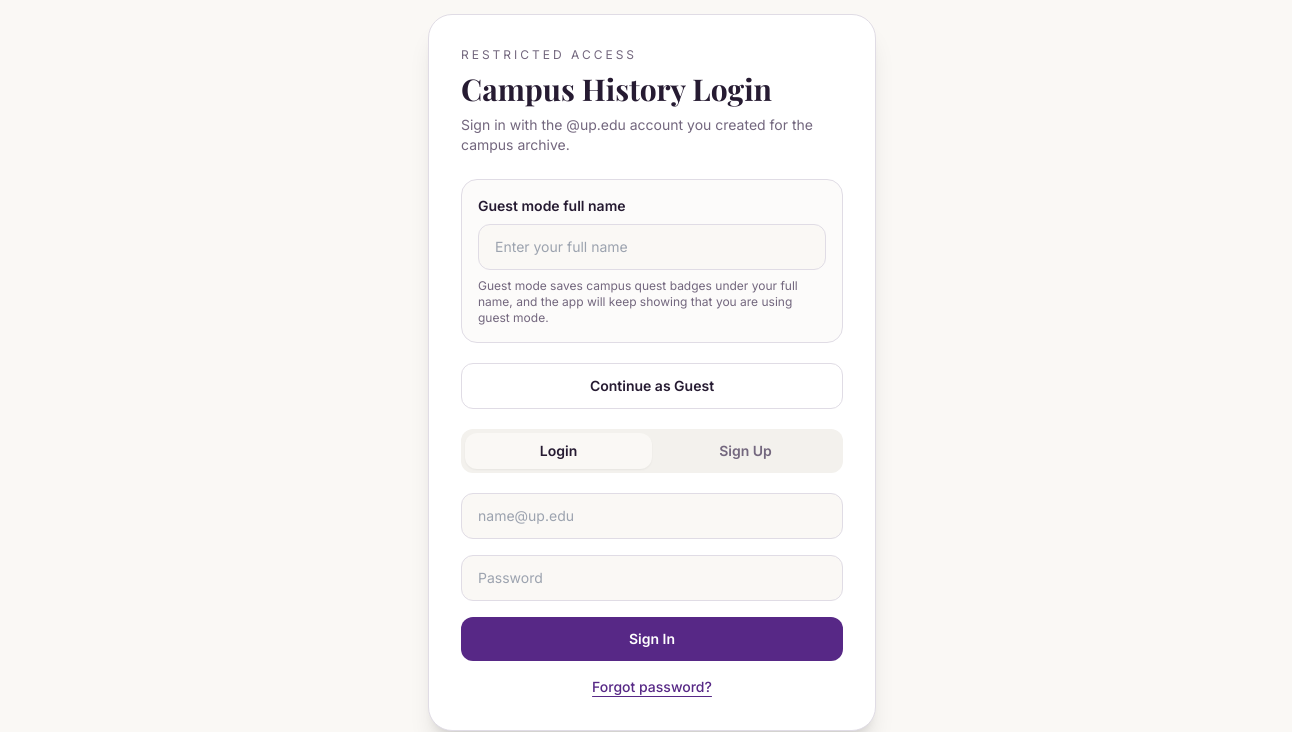
Scenario: LoginGate › renders children after a successful login
Expected: the heading "Campus History Login" is shown, x1=461 y1=68 x2=772 y2=108
Type "user@up.edu" into the field with placeholder "name@up.edu". click: (652, 516)
box: x1=461 y1=492 x2=843 y2=538
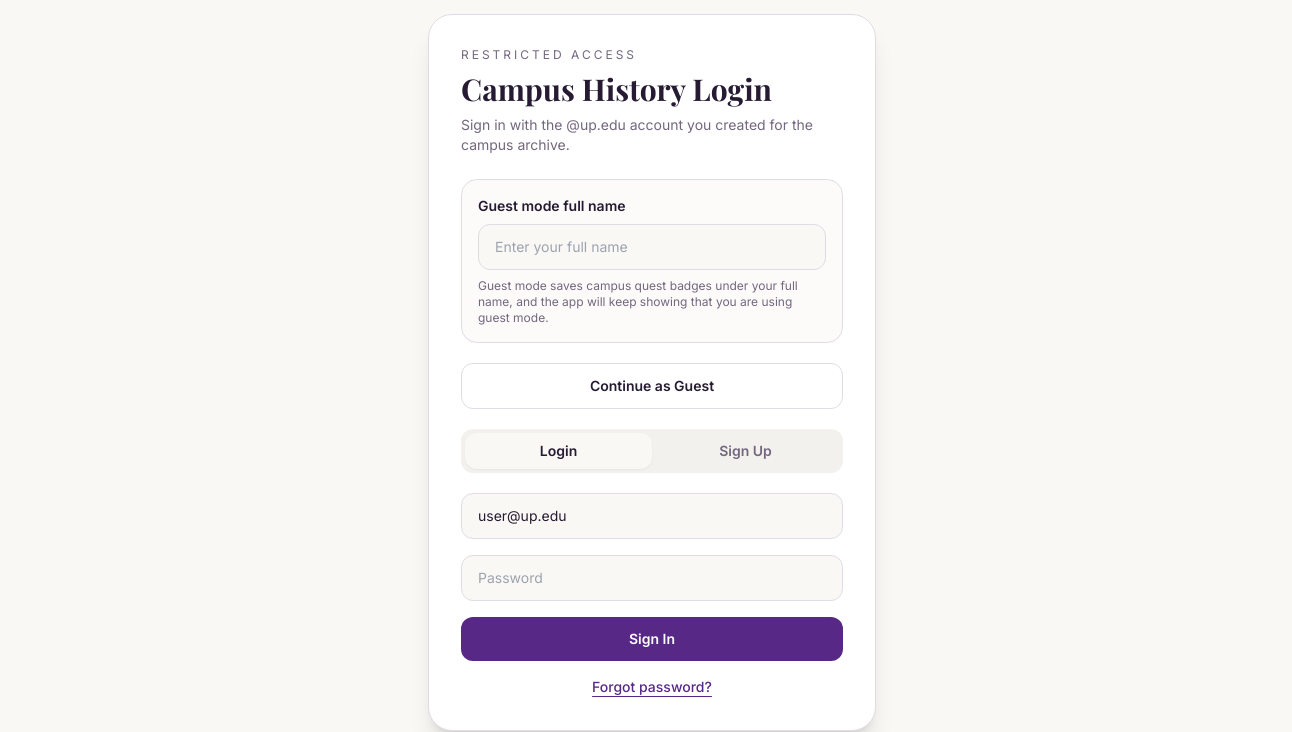
Type "campuspass" into the password field with placeholder "Password". click: (652, 578)
box: x1=461 y1=554 x2=843 y2=600
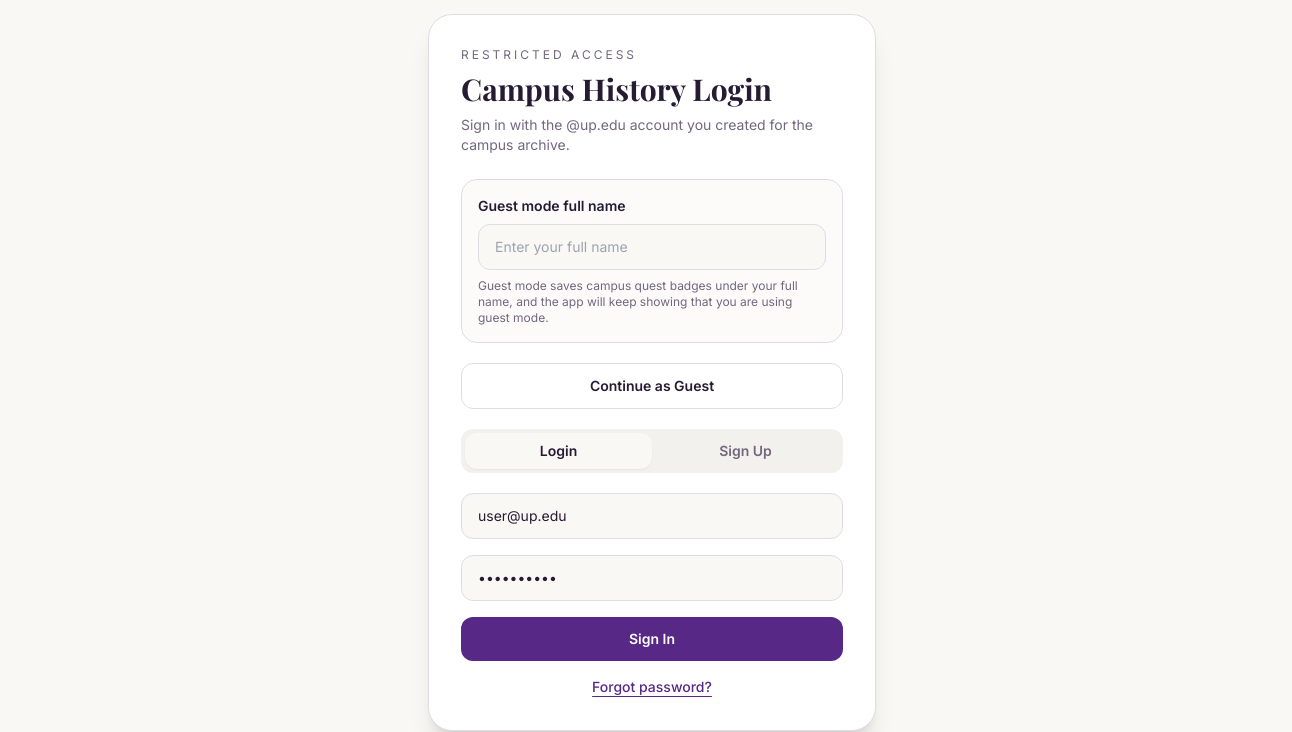
Click the button "Sign In". click: (652, 638)
box: x1=461 y1=616 x2=843 y2=660
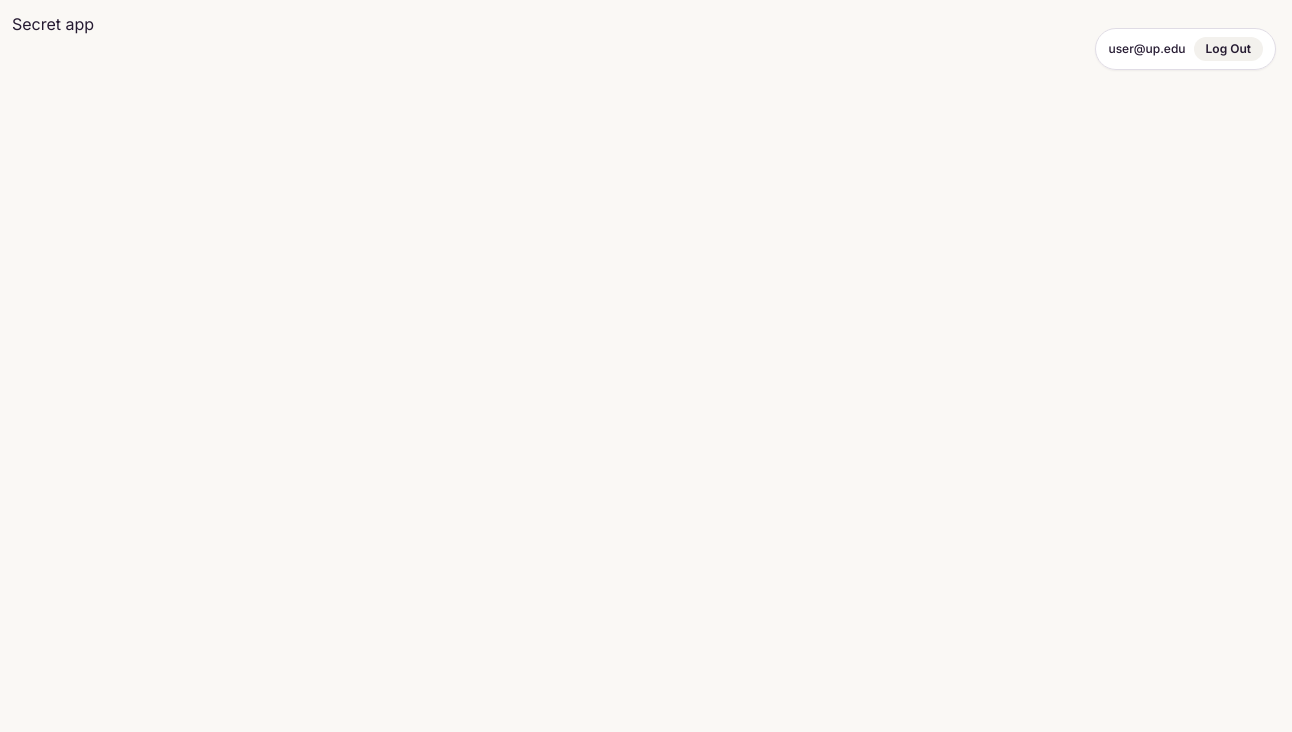
Result: the text "Secret app" is shown at x1=12 y1=14 x2=94 y2=34
